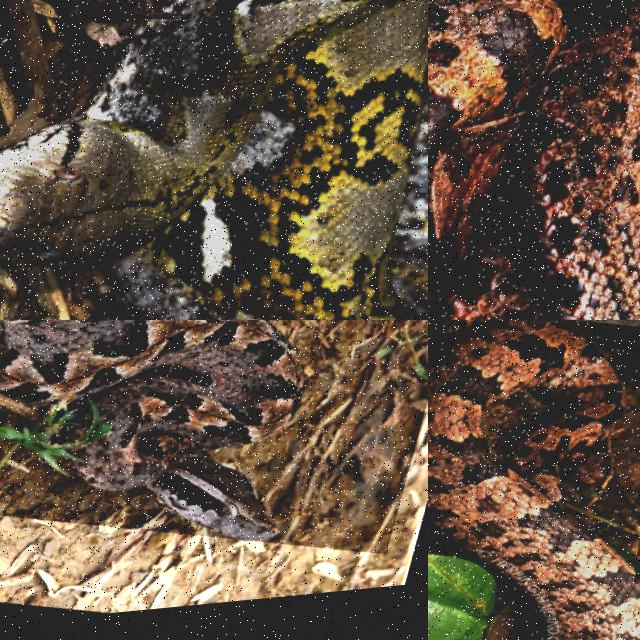Calloselasma rhodostoma: (0, 320, 301, 540)
Malayopython reticulatus: (0, 0, 427, 319)
Ovophis monticola: (428, 0, 639, 319), (428, 320, 639, 639)
snake: (0, 0, 427, 319), (428, 0, 639, 319), (428, 320, 639, 639), (0, 320, 301, 540)
